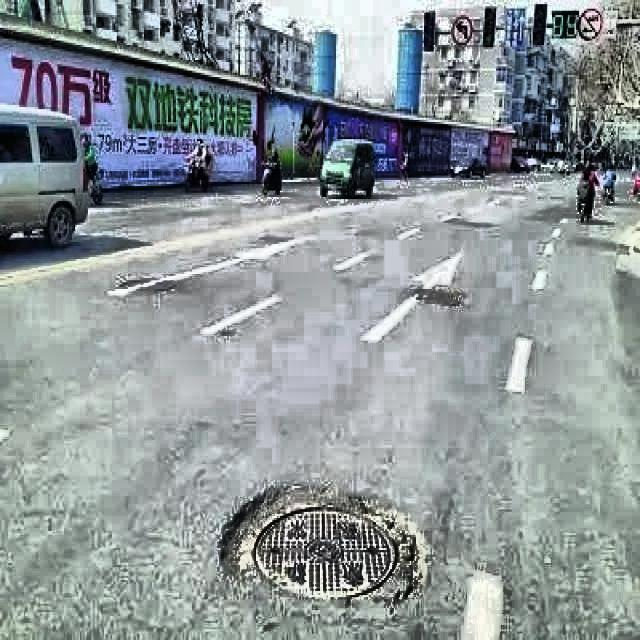buraco: (215, 482, 430, 604), (413, 280, 461, 310), (119, 278, 180, 294)
